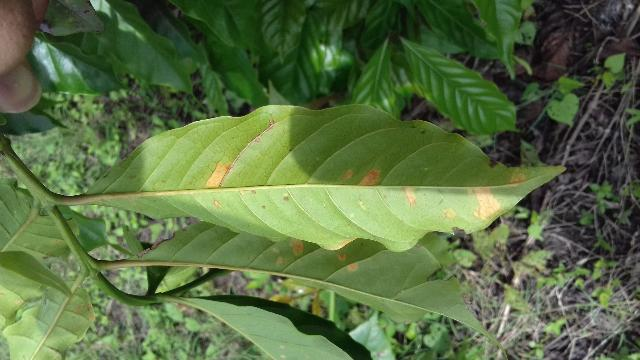rust_level_2: (80, 106, 562, 253)
